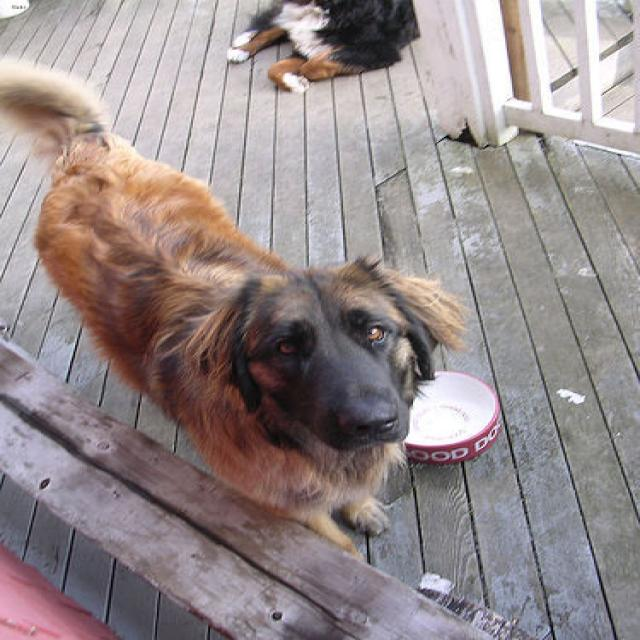dog-leonberger: (2, 46, 486, 568)
